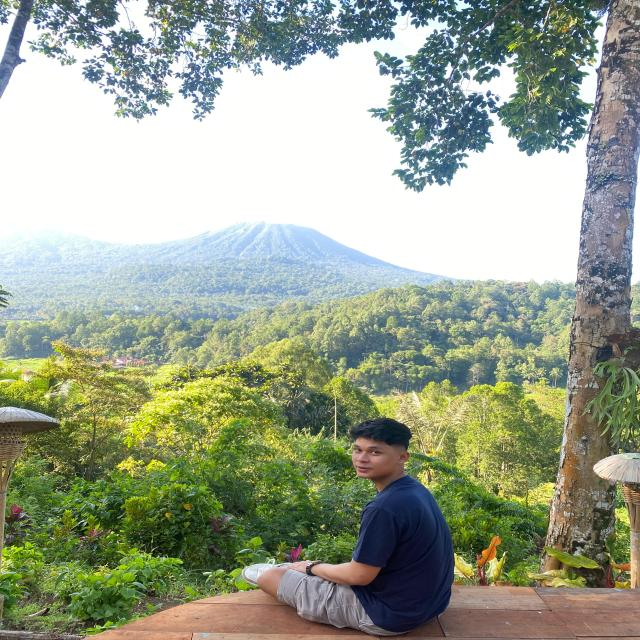nohelmet: (345, 416, 416, 486)
